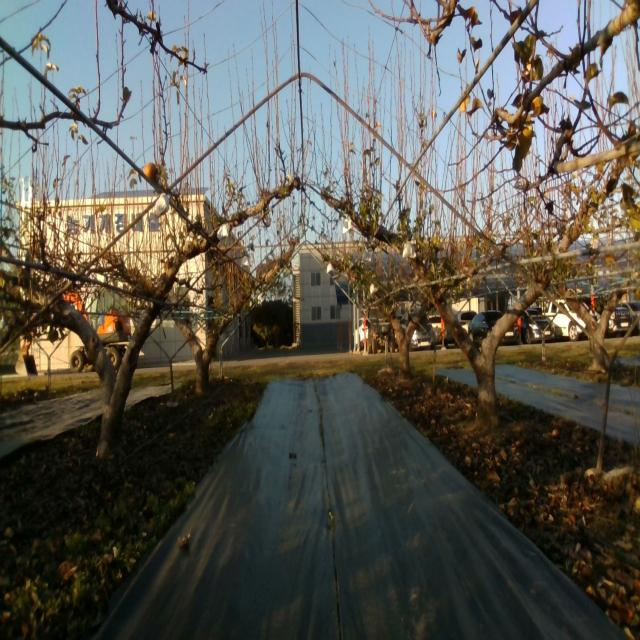pearbags: (153, 192, 171, 220), (402, 242, 417, 260), (217, 223, 230, 241)
